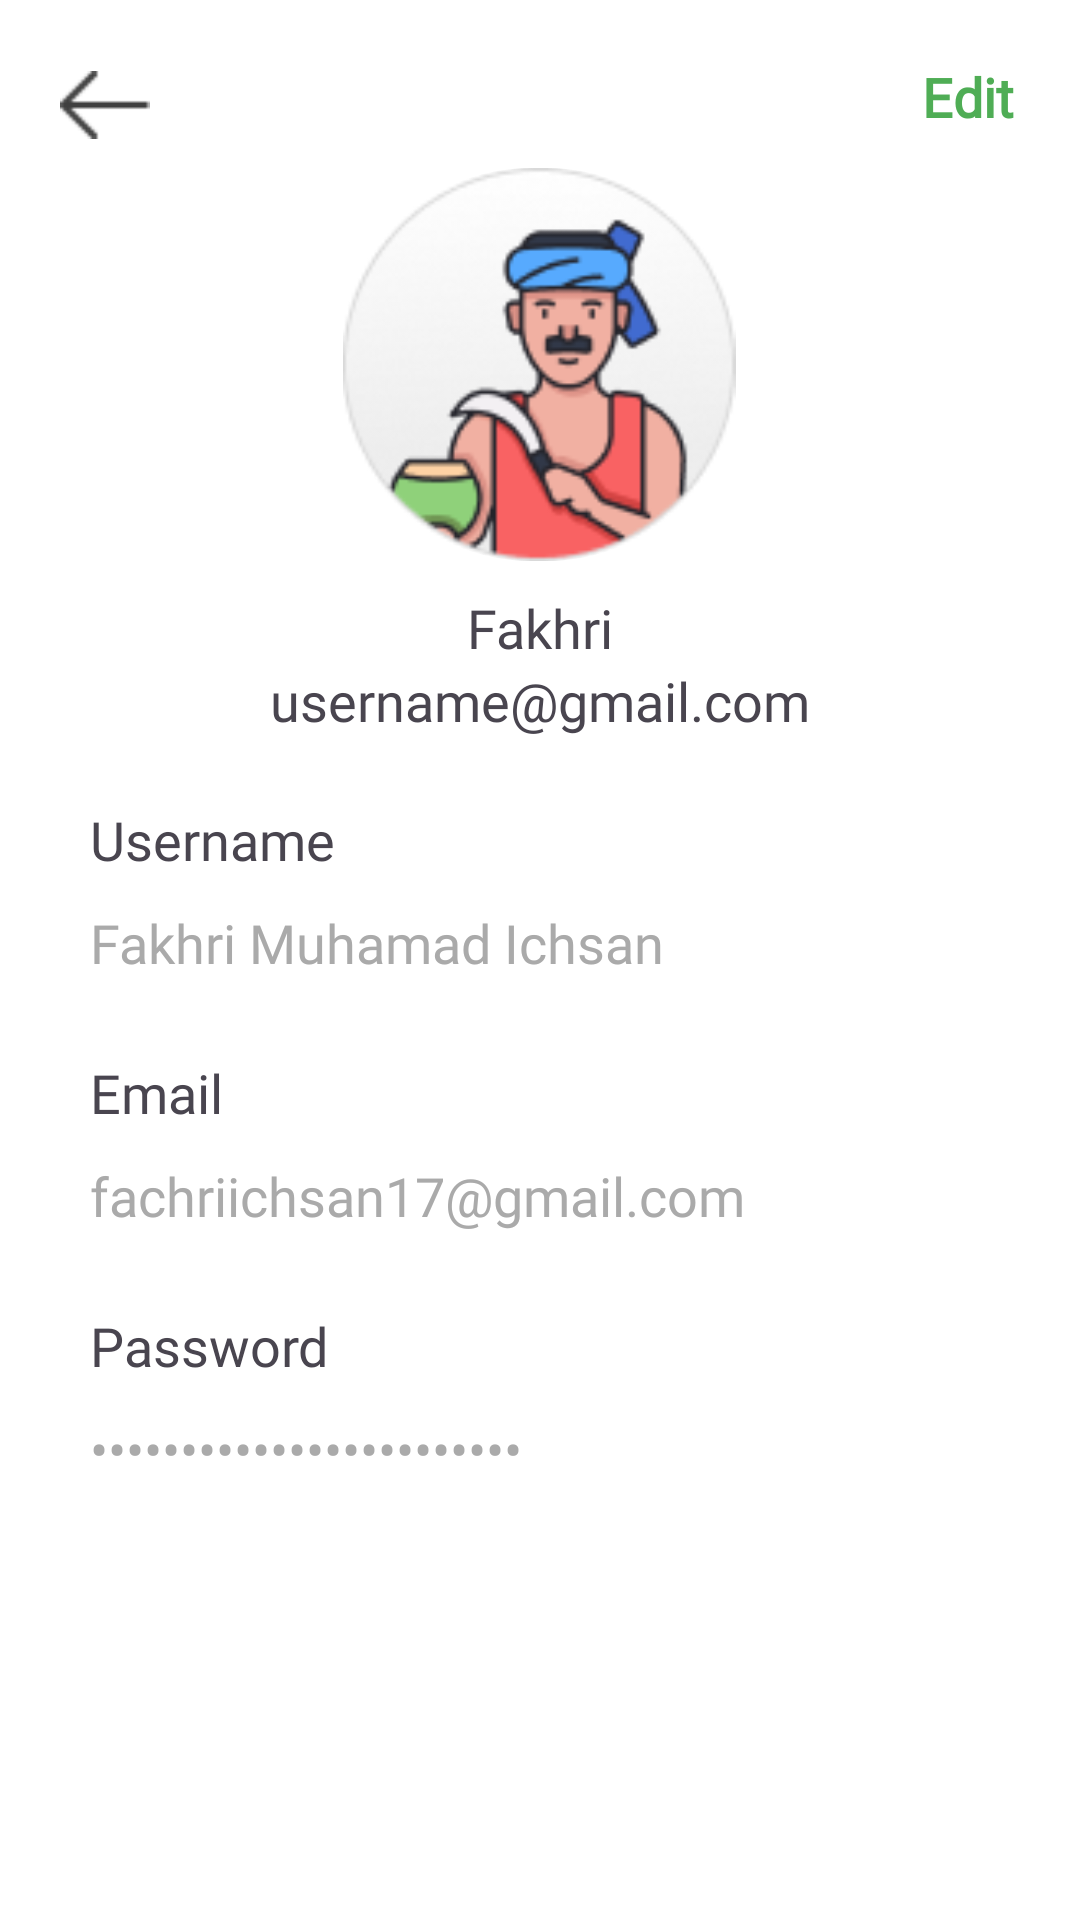

Screen size 1080 x 1920. Icon name, then its center in pixels as (x,y):
back: (105,105)
